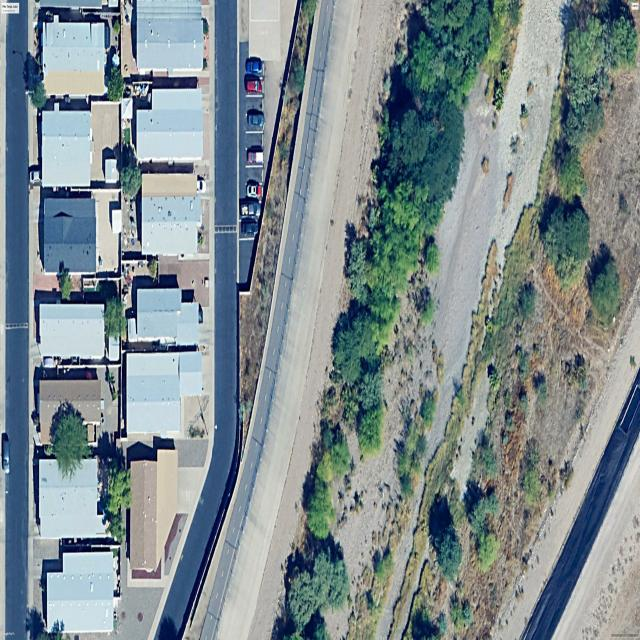Home: (125, 352, 202, 437), (129, 449, 178, 573), (45, 551, 115, 633), (36, 459, 106, 538), (132, 0, 204, 74), (41, 16, 106, 97), (135, 88, 204, 162), (141, 174, 202, 255), (129, 288, 200, 346), (39, 379, 101, 444), (42, 198, 96, 272), (41, 110, 92, 187), (38, 304, 105, 359)
